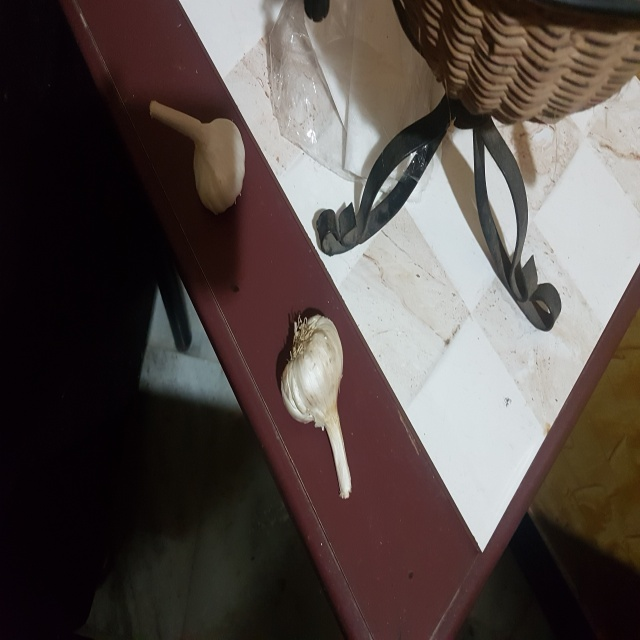garlic: (272, 304, 388, 511), (140, 89, 258, 217)
